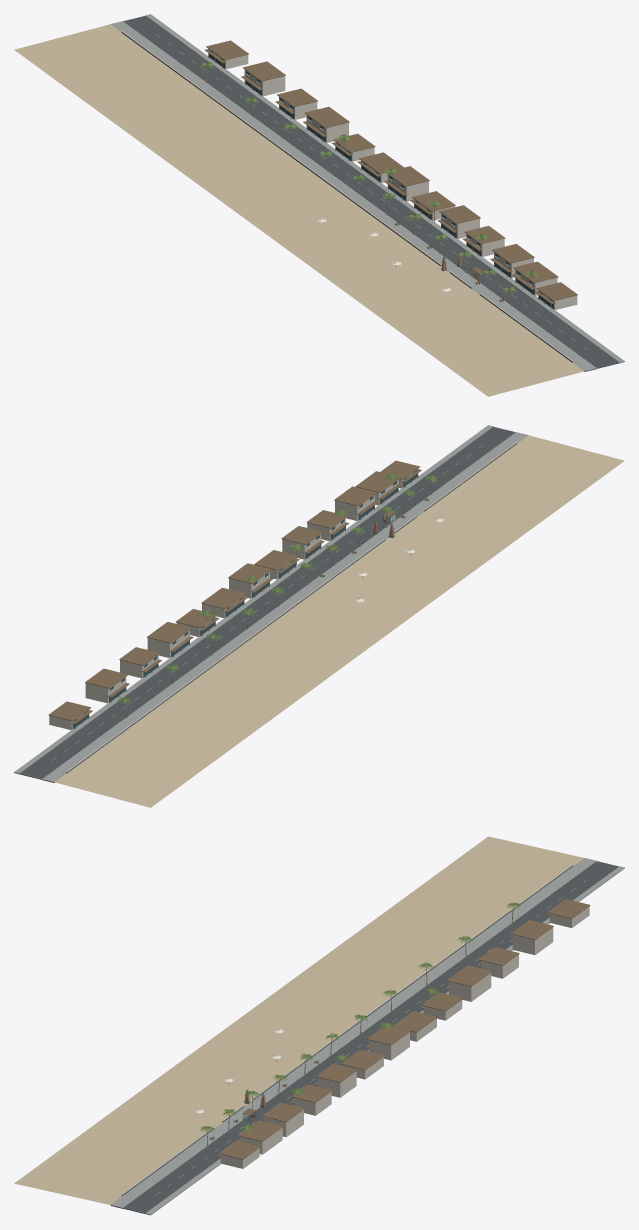
File: coast.glb
3 renders of one model, top to bottom at view 1: azimuth 30°, elevation 25°; view 2: azimuth 150°, elevation 25°; view 3: azimuth 330°, elevation 25°, orthographic.
Visible parts, largest first — view 1: Ground_Sand, Static_Road_asphalt, Static_Weathered_teak, Ground_Promenade, Static_Limestone_stucco, Static_Paving_PBR, Static_Window_glass, Static_Volcanic_stone; view 2: Ground_Sand, Static_Road_asphalt, Static_Weathered_teak, Ground_Promenade, Static_Limestone_stucco, Static_Paving_PBR, Static_Window_glass, Static_Volcanic_stone; view 3: Ground_Sand, Static_Road_asphalt, Static_Weathered_teak, Static_Limestone_stucco, Ground_Promenade, Static_Volcanic_stone, Static_Paving_PBR.
Part boxes in pixels (left/top/right/bottom): Ground_Sand: left=14, top=24, right=584, bottom=396; Static_Road_asphalt: left=123, top=16, right=619, bottom=368; Static_Weathered_teak: left=205, top=40, right=577, bottom=308; Ground_Promenade: left=111, top=21, right=596, bottom=370; Static_Limestone_stucco: left=122, top=31, right=577, bottom=361; Static_Paving_PBR: left=145, top=14, right=624, bottom=363; Static_Window_glass: left=209, top=50, right=553, bottom=309; Static_Volcanic_stone: left=121, top=32, right=596, bottom=371; Ground_Sand: left=54, top=435, right=624, bottom=807; Static_Road_asphalt: left=19, top=426, right=515, bottom=779; Static_Weathered_teak: left=48, top=460, right=435, bottom=728; Ground_Promenade: left=42, top=432, right=527, bottom=781; Static_Limestone_stucco: left=49, top=442, right=516, bottom=772; Static_Paving_PBR: left=14, top=425, right=493, bottom=774; Static_Window_glass: left=72, top=470, right=417, bottom=729; Static_Volcanic_stone: left=42, top=436, right=526, bottom=782; Ground_Sand: left=14, top=836, right=583, bottom=1204; Static_Road_asphalt: left=123, top=861, right=618, bottom=1213; Static_Weathered_teak: left=200, top=899, right=590, bottom=1159; Static_Limestone_stucco: left=122, top=865, right=589, bottom=1194; Ground_Promenade: left=111, top=858, right=596, bottom=1207; Static_Volcanic_stone: left=110, top=861, right=596, bottom=1208; Static_Paving_PBR: left=145, top=866, right=624, bottom=1215.
Size of what is drawn, in the model's own units: 77.7 by 10.63 by 400.
